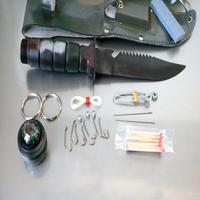knife: (18, 34, 194, 88)
